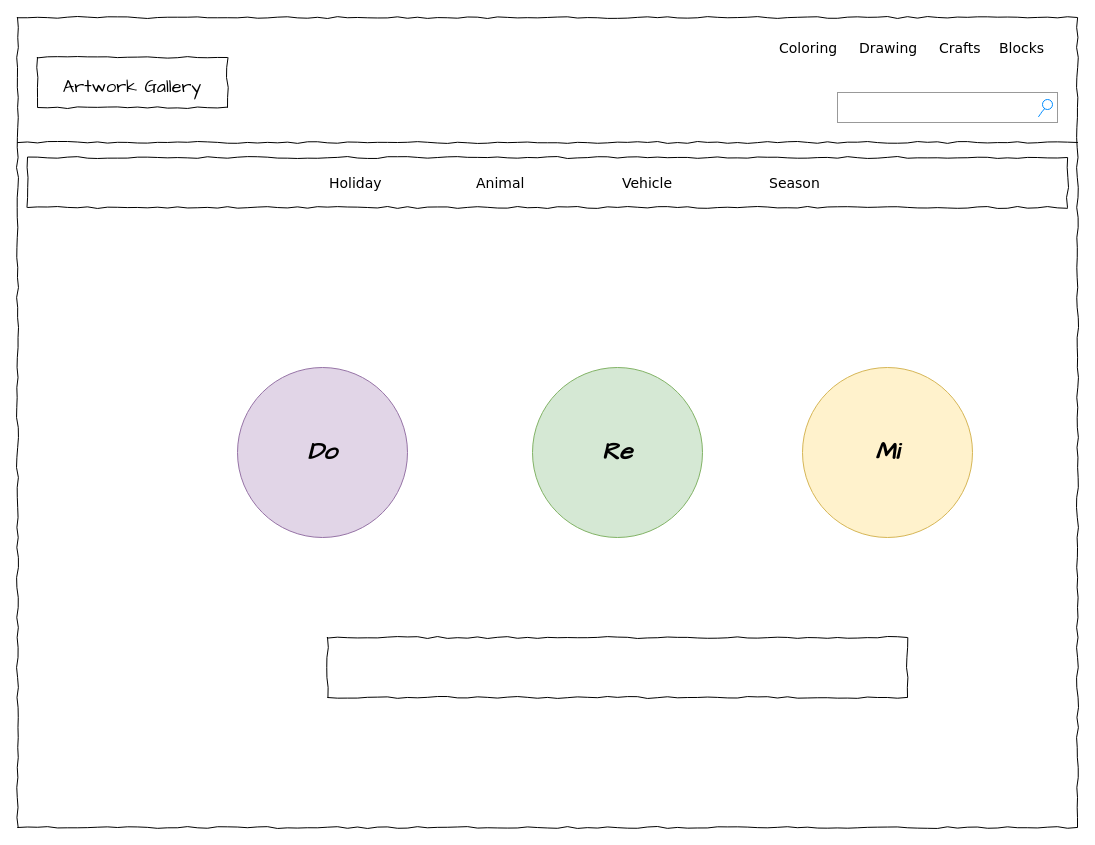
Some shapes in this 1095 by 845 pixel diagram are drawn without their labels. The shapes that lost their labels are listed below. From the top down, each one's centre as x and y in pixels, then its label:
the point at 947,107: Search
the point at 617,667: Coloring the feeling, drawing the thoughts, building the future.
